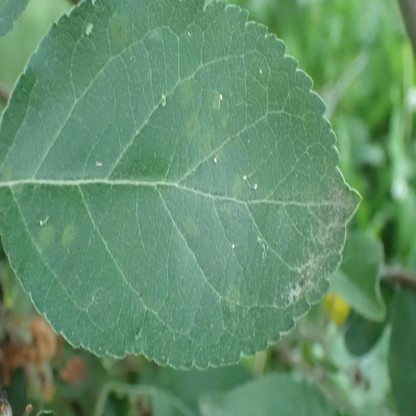powdery_mildew: (284, 174, 353, 304), (148, 29, 160, 42)
scab: (111, 14, 131, 50), (221, 112, 238, 143), (174, 82, 193, 109), (200, 128, 217, 156), (224, 287, 239, 314), (185, 115, 200, 142), (61, 222, 77, 247), (181, 215, 199, 237), (39, 226, 54, 248), (210, 89, 222, 111), (232, 173, 242, 199)
